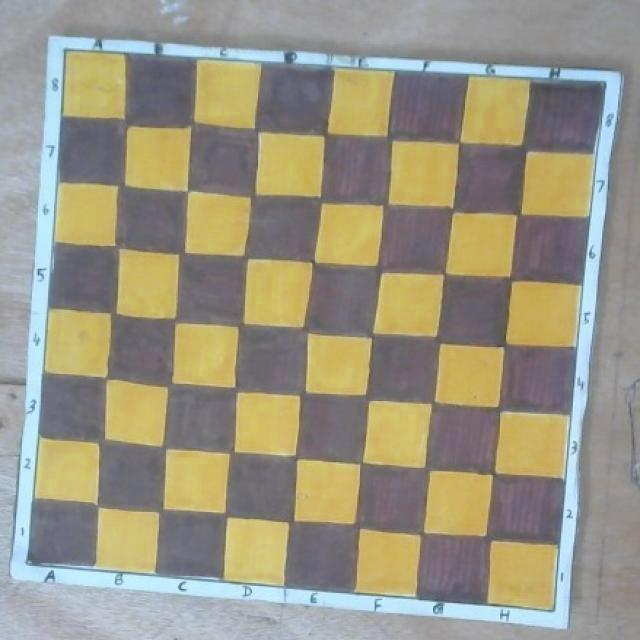chess-table-corners: (24, 559, 31, 566), (602, 79, 608, 86), (61, 48, 68, 52), (551, 608, 556, 612)
